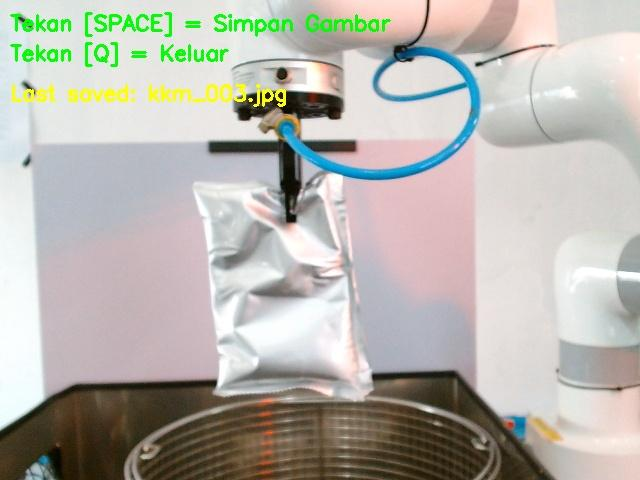retort-pouch: (192, 172, 377, 403)
